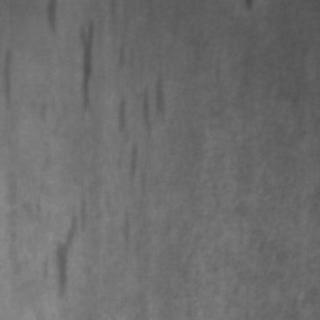inclusion: (109, 69, 171, 181), (43, 188, 91, 296), (66, 12, 102, 116), (38, 0, 56, 36)
